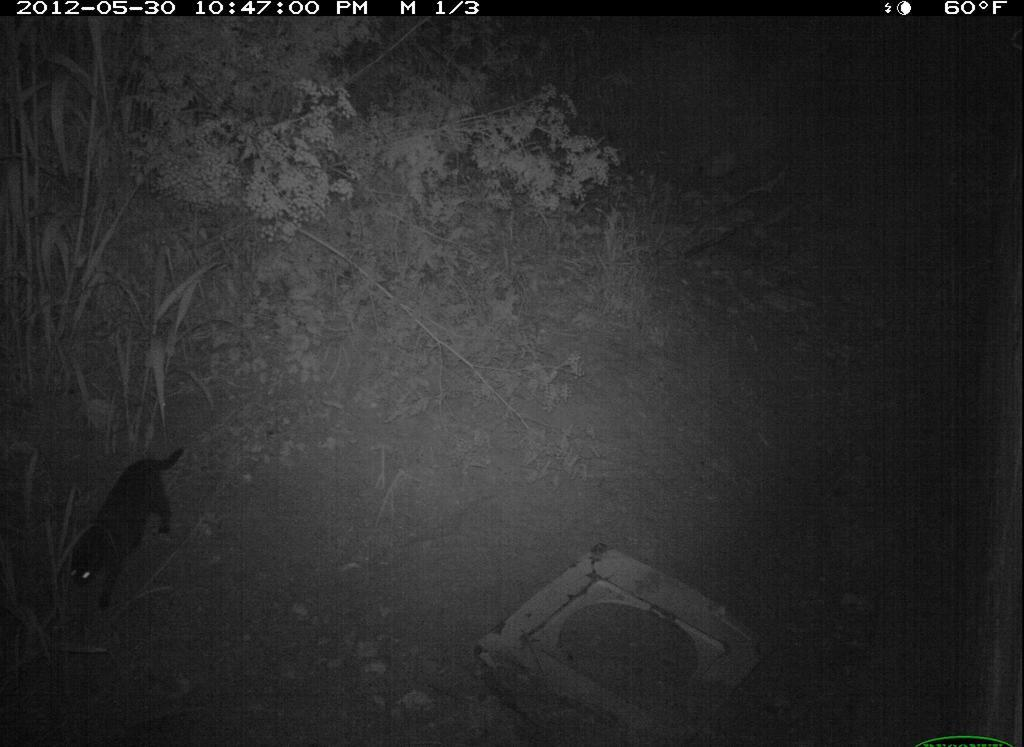cat: (56, 440, 194, 623)
